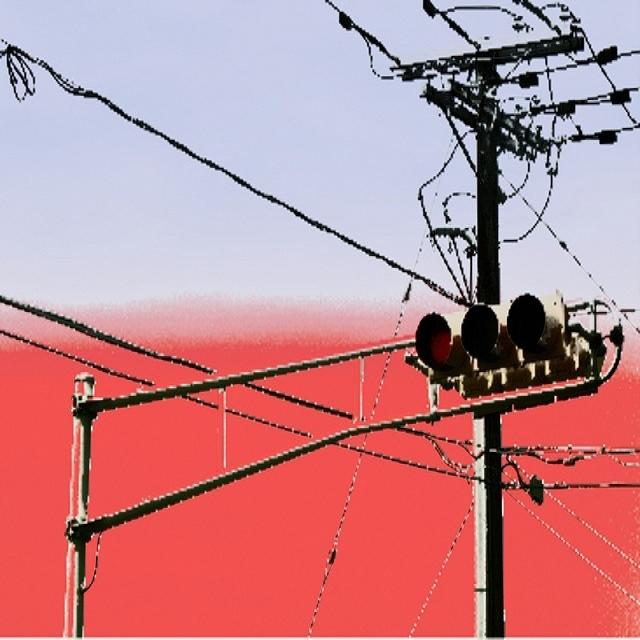Cable: (12, 8, 640, 613)
